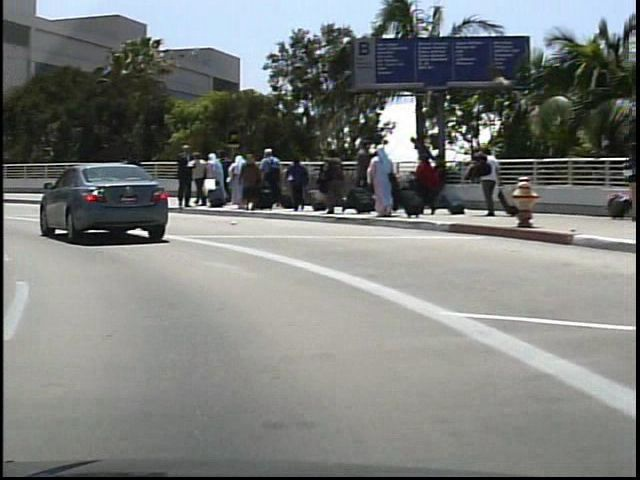person: (609, 138, 640, 222), (471, 142, 496, 221), (112, 149, 139, 212), (171, 142, 193, 209), (184, 149, 205, 210), (126, 153, 145, 196)
